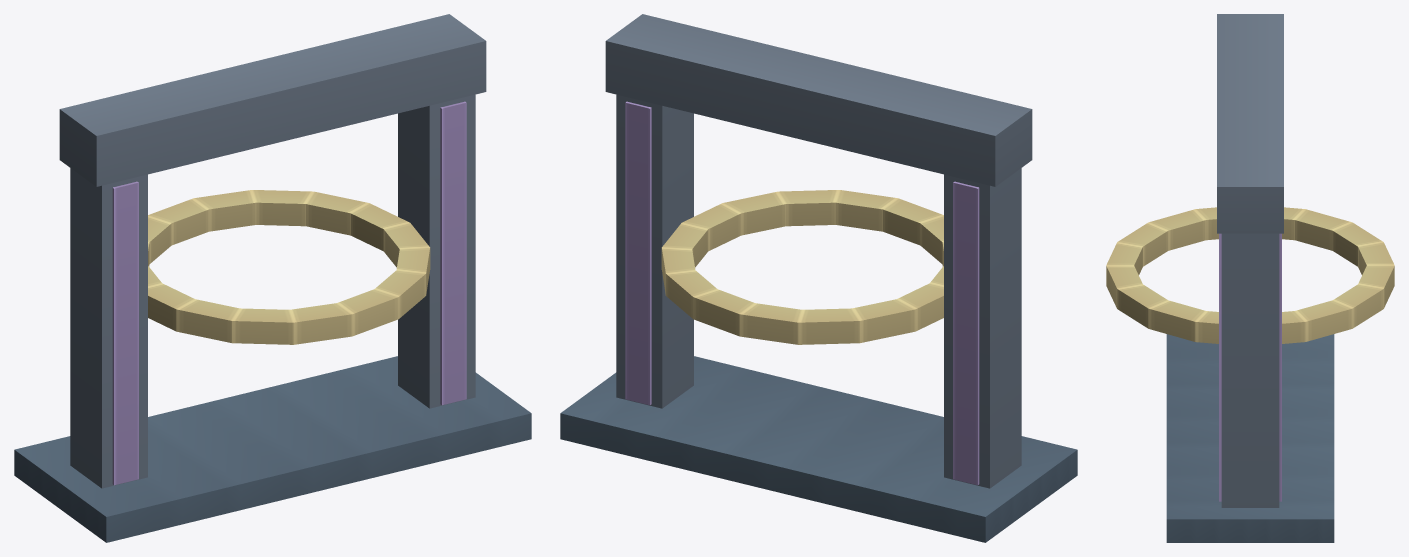
File: race_arch.glb
The picture shows the model from 3 angles, left to right: view 1: azimuth 30°, elevation 25°; view 2: azimuth 150°, elevation 25°; view 3: azimuth 270°, elevation 25°; orthographic projection. The views are drawn at different scales.
Visible parts, largest first — view 1: race_arch; view 2: race_arch; view 3: race_arch.
Part boxes in pixels (box(x1,y1,x2,y2)): race_arch: box(14, 14, 531, 542); race_arch: box(560, 14, 1077, 542); race_arch: box(1106, 14, 1394, 542).
Bounding box in the file's own units: 4.8 × 4.12 × 3.1.
Materials: 1 (1 with a texture image).
